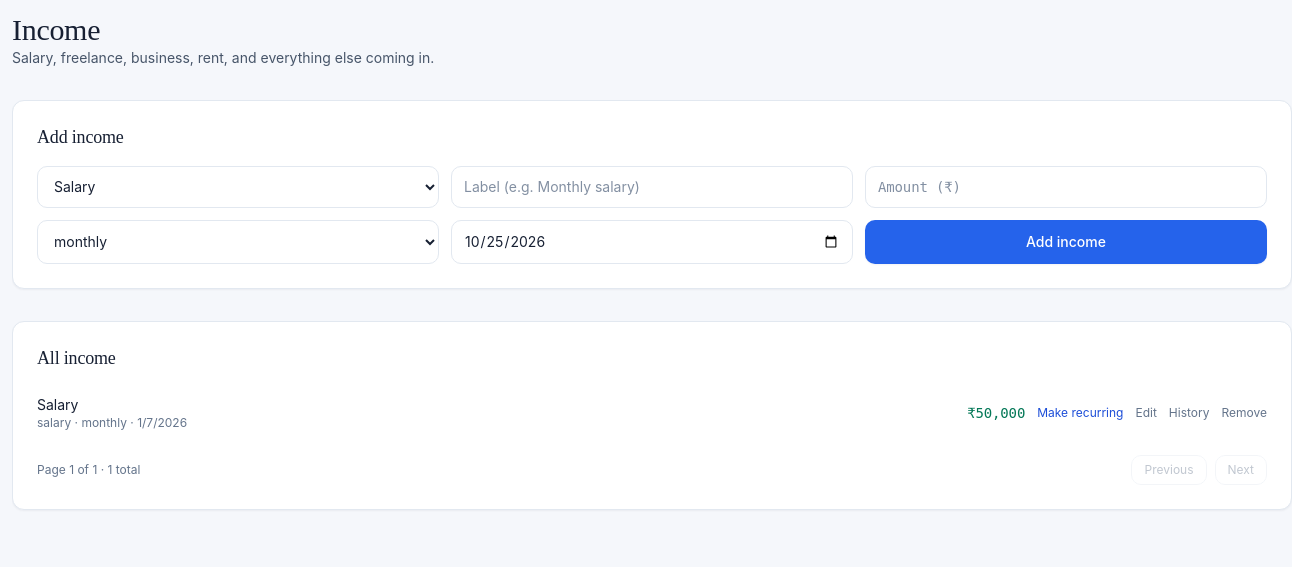
Test: IncomePage amount-change history (new, audit item #4) › fetches and displays history entries when 'History' is clicked
The width and height of the screenshot is (1292, 567).
Click the button "History" at (1189, 412), box [1169,404,1209,420]
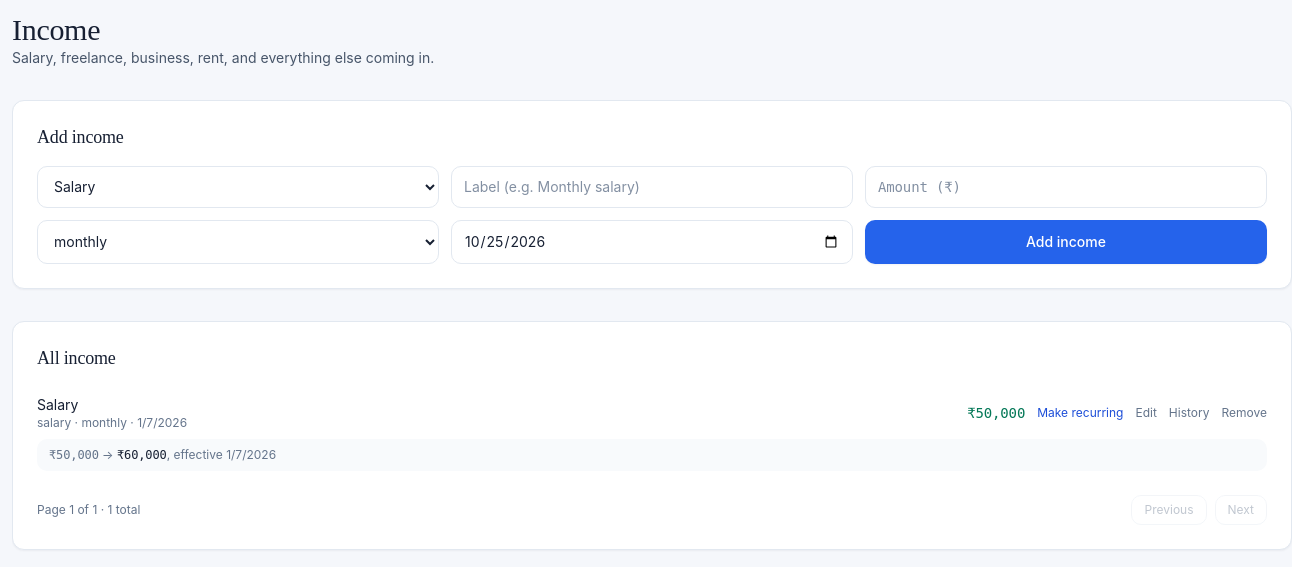
Expected: the list item "₹50,000 → ₹60,000, effective 1/7/2026" is shown, [49,446,276,462]
